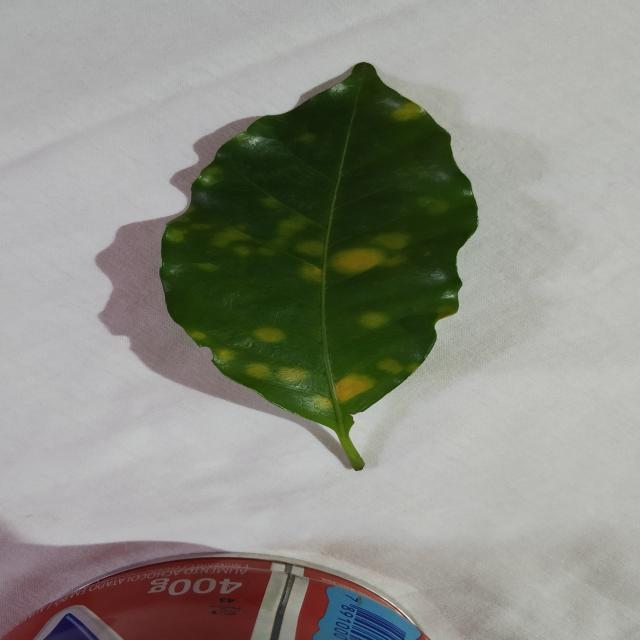Enfermedad-Roya: (157, 62, 480, 473)
